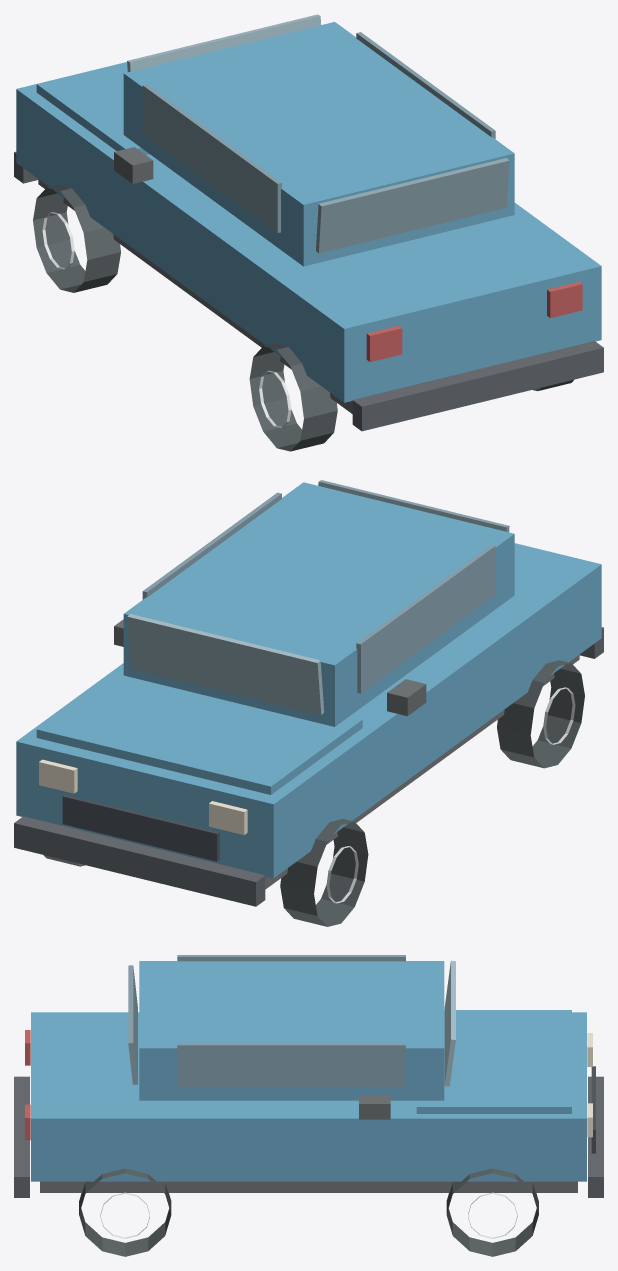
Rendered from onix.glb.
The picture shows the model from 3 angles, top to bottom: view 1: azimuth 30°, elevation 25°; view 2: azimuth 150°, elevation 25°; view 3: azimuth 270°, elevation 25°; orthographic projection. The views are drawn at different scales.
Parts seen in each view (by area): view 1: painted_body, cabin, tire (×2), rear_glass, side_window (×2), rear_bumper, hood, windshield, taillight (×2), chassis, mirror; view 2: painted_body, cabin, hood, tire (×2), windshield, side_window (×2), front_bumper, grille, headlight (×2), rear_glass, chassis, mirror; view 3: painted_body, cabin, hood, side_window (×2), chassis, tire (×2), rear_bumper, front_bumper, windshield, rear_glass, mirror.
Boxes of the visible parts, x1,y1,x2,y2 form: painted_body: (16,62,601,402); cabin: (123,22,514,266); tire (×2): (33,185,337,451); rear_glass: (316,158,509,253); side_window (×2): (142,32,495,233); rear_bumper: (352,341,603,431); hood: (36,62,149,155); windshield: (127,14,320,71); taillight (×2): (366,281,582,361); chassis: (38,179,352,413); mirror: (114,147,153,183); painted_body: (16,543,601,878); cabin: (123,482,514,726); hood: (36,666,362,794); tire (×2): (280,660,584,926); windshield: (127,614,324,715); side_window (×2): (142,492,495,693); front_bumper: (14,816,265,906); grille: (62,794,219,861); headlight (×2): (39,759,247,834); rear_glass: (318,480,509,532); chassis: (265,654,579,889); mirror: (387,679,426,716); painted_body: (31,1012,586,1181); cabin: (139,961,444,1100); hood: (416,1010,571,1113); side_window (×2): (177,955,405,1087); chassis: (40,1181,577,1192); tire (×2): (79,1168,538,1256); rear_bumper: (14,1076,29,1197); front_bumper: (588,1076,603,1197); windshield: (444,960,455,1086); rear_glass: (128,965,137,1084); mirror: (359,1095,390,1119).
Bounding box in the file's own units: 2 × 1.52 × 4.09.
